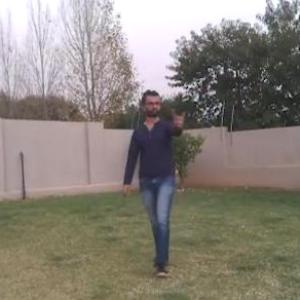takeoff-hand: (170, 100, 194, 130)
